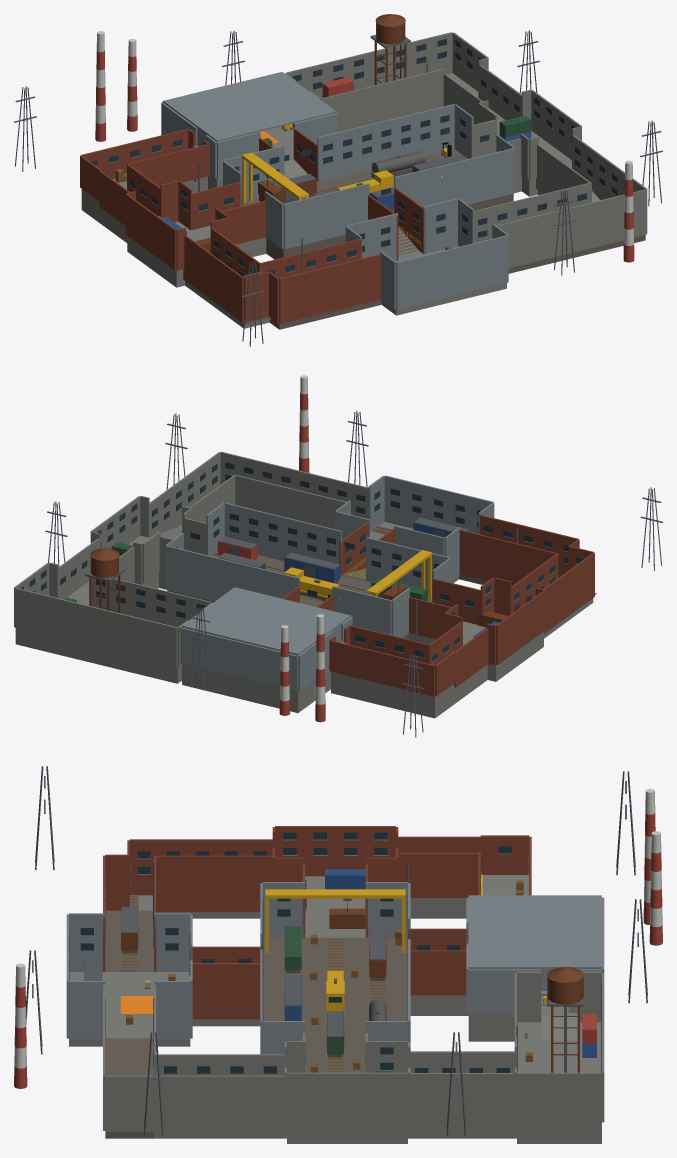
File: trainyard.glb
3 renders of one model, top to bottom at view 1: azimuth 30°, elevation 25°; view 2: azimuth 150°, elevation 25°; view 3: azimuth 270°, elevation 25°, orthographic. The views are drawn at different scales.
Visible parts, largest first — view 1: Ceiling2, RoomWall75, RoomWall67, RoomWall13, RoomWall62, RoomWall15, RoomWall53, RoomWall52, RoomWall14, RoomWall57, RoomWall74, RoomWall1 (+46 smaller); view 2: RoomWall52, Ceiling2, RoomWall13, RoomWall40, RoomWall15, RoomWall67, RoomWall60, RoomWall31, RoomWall74, RoomWall75, Floor9, Floor12 (+35 smaller); view 3: RoomWall73, Ceiling2, Floor3, RoomWall59, RoomWall27, RoomWall56, Floor12, RoomWall26, RoomWall1, RoomWall71, Floor16, RoomWall29 (+45 smaller).
Part boxes in pixels (<box>): Ceiling2: <box>163,72,336,141</box>; RoomWall75: <box>492,189,646,268</box>; RoomWall67: <box>396,235,507,309</box>; RoomWall13: <box>317,104,454,182</box>; RoomWall62: <box>279,254,380,323</box>; RoomWall15: <box>394,148,514,206</box>; RoomWall53: <box>321,68,445,131</box>; RoomWall52: <box>285,32,452,98</box>; RoomWall14: <box>283,183,369,249</box>; RoomWall57: <box>183,235,243,322</box>; RoomWall74: <box>471,182,591,242</box>; RoomWall1: <box>125,194,176,270</box>; RoomWall52: <box>14,588,177,667</box>; Ceiling2: <box>182,587,350,655</box>; RoomWall13: <box>166,545,299,601</box>; RoomWall40: <box>181,627,298,691</box>; RoomWall15: <box>224,503,341,573</box>; RoomWall67: <box>384,475,493,533</box>; RoomWall60: <box>459,530,558,585</box>; RoomWall31: <box>330,640,434,696</box>; RoomWall74: <box>235,475,346,529</box>; RoomWall75: <box>220,451,370,518</box>; Floor9: <box>182,663,330,712</box>; Floor12: <box>15,628,181,683</box>; RoomWall73: <box>105,1075,286,1131</box>; Ceiling2: <box>468,895,601,969</box>; Floor3: <box>263,937,407,1072</box>; RoomWall59: <box>154,855,272,911</box>; RoomWall27: <box>287,1072,407,1123</box>; RoomWall56: <box>410,1073,514,1118</box>; Floor12: <box>517,1022,601,1143</box>; RoomWall26: <box>517,1072,601,1123</box>; RoomWall1: <box>275,826,395,876</box>; RoomWall71: <box>192,963,260,1019</box>; Floor16: <box>69,972,190,1046</box>; RoomWall29: <box>398,853,478,897</box>.
Size of the model in its own units: 109 by 28 by 107.
